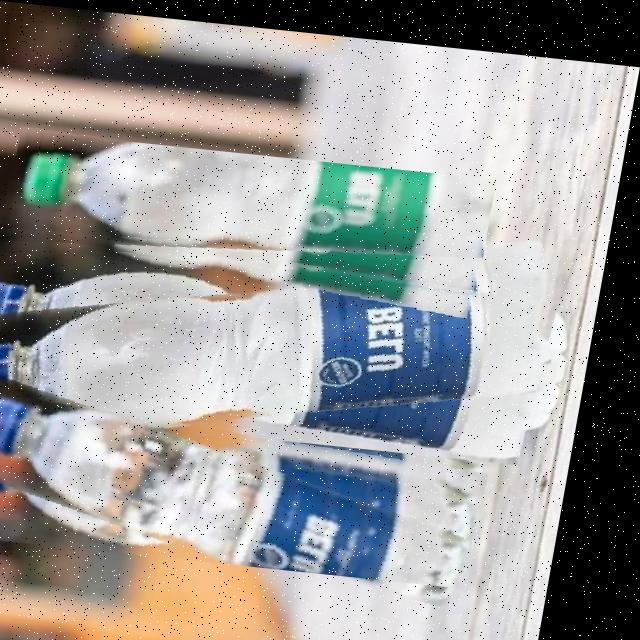plasticbottle: (0, 213, 571, 452), (0, 387, 508, 576), (8, 128, 501, 277)
